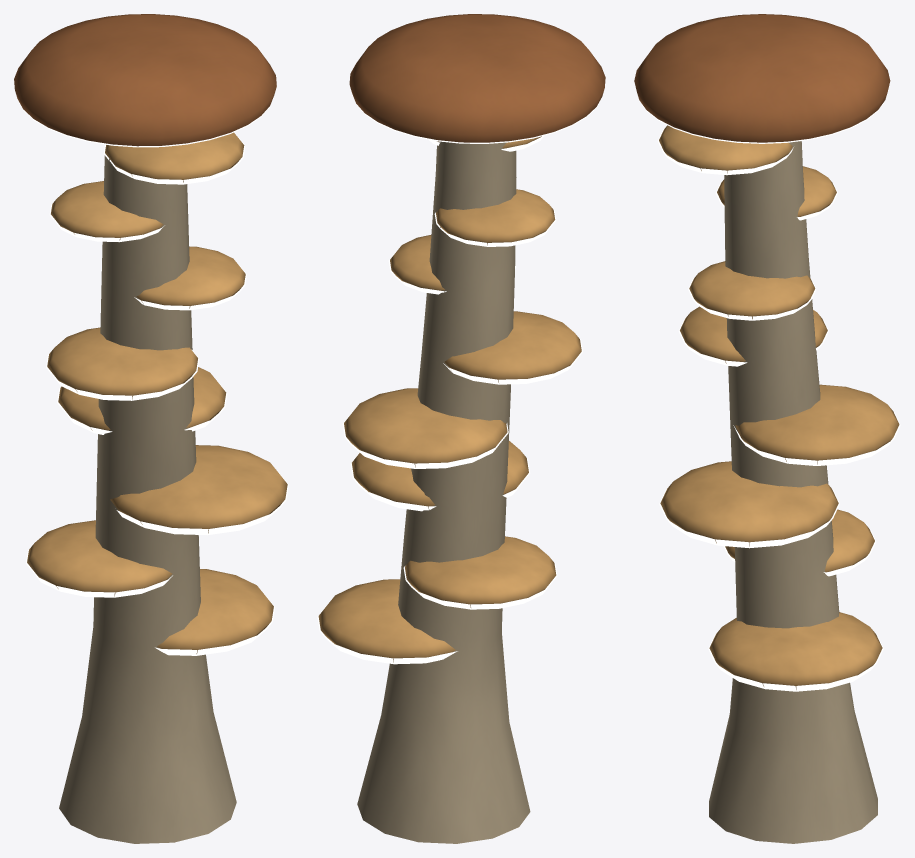
File: houba_chorose.glb
The picture shows the model from 3 angles, left to right: view 1: azimuth 30°, elevation 25°; view 2: azimuth 150°, elevation 25°; view 3: azimuth 270°, elevation 25°; orthographic projection. The views are drawn at different scales.
Visible parts, largest first — view 1: houba_kmen, noc; view 2: houba_kmen, noc; view 3: houba_kmen, noc.
Part boxes in pixels (x1,y1,x2,y2): houba_kmen: [14, 14, 287, 843]; noc: [17, 96, 288, 655]; houba_kmen: [318, 14, 605, 843]; noc: [317, 94, 601, 664]; houba_kmen: [634, 14, 899, 843]; noc: [639, 100, 900, 691].
Size of the model in its own units: 2.84 by 8.49 by 2.7.
Materials: 2 (1 with a texture image).
